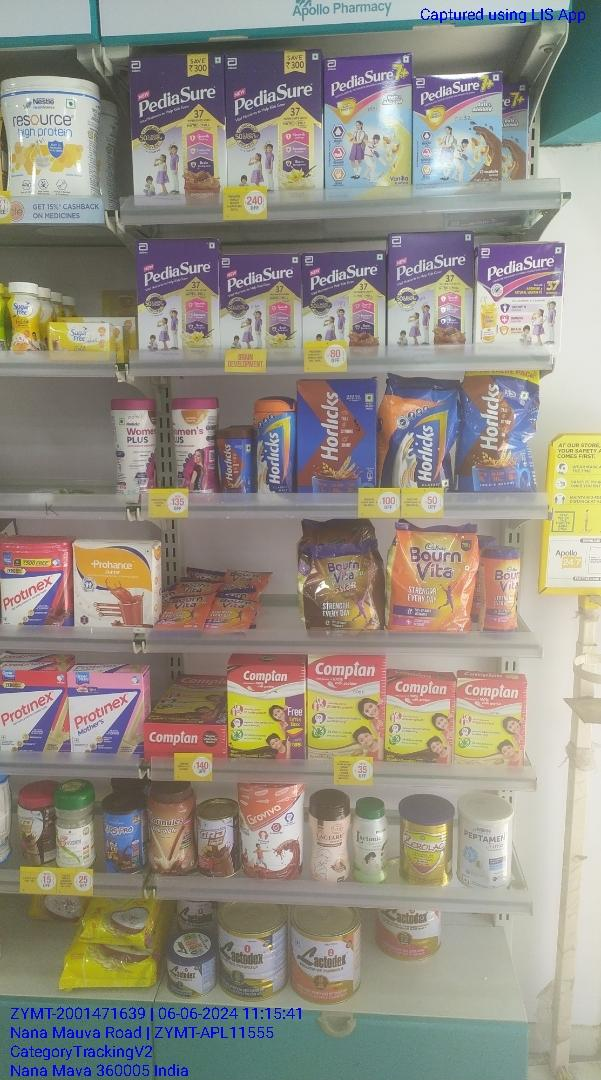HORLICK_CLASSIC_MALT_500_G_JAR: (258, 397, 294, 498)
HORLICK_CLASSIC_MALT_750_G_POUCH: (375, 374, 457, 486)
PEDIASURE_7_PLUS_CHOCOLATE_400_G_PACK: (414, 76, 502, 185)
PEDIASURE_CHOCOLATE_500_G_PACK: (385, 231, 482, 344), (304, 249, 387, 348)
PEDIASURE_VANILLA_500_G_PACK: (135, 236, 220, 353), (222, 255, 300, 353)
